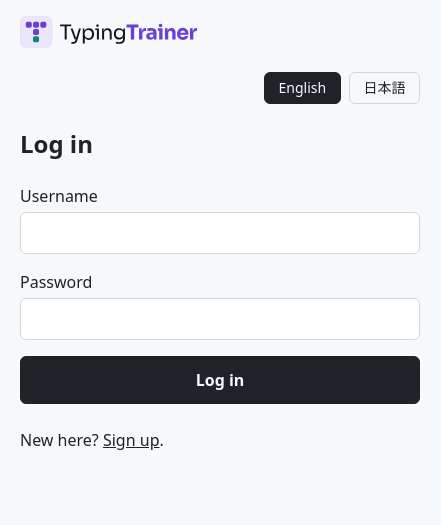
sign-in screen › says how long to wait when the API rate-limits the attempt
The width and height of the screenshot is (441, 525).
Type "ada" into the field labelled "Username" at (220, 233), box [20,212,420,254]
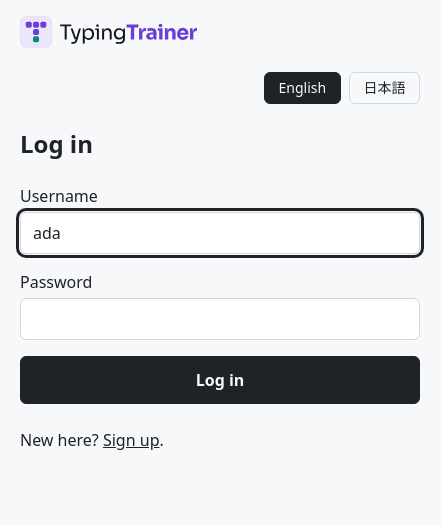
Type "correct horse battery staple" into the password field labelled "Password" at (220, 319), box [20,298,420,340]
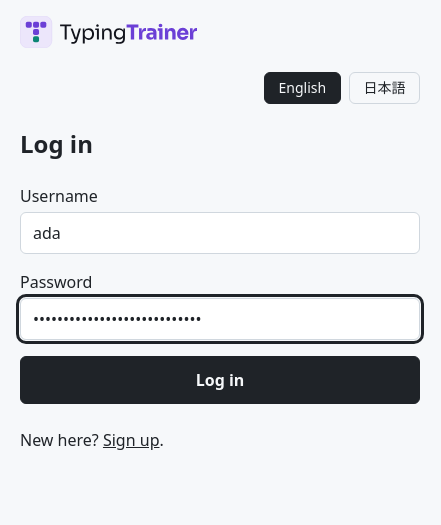
Click the button "Log in" at (220, 380), box [20,356,420,404]
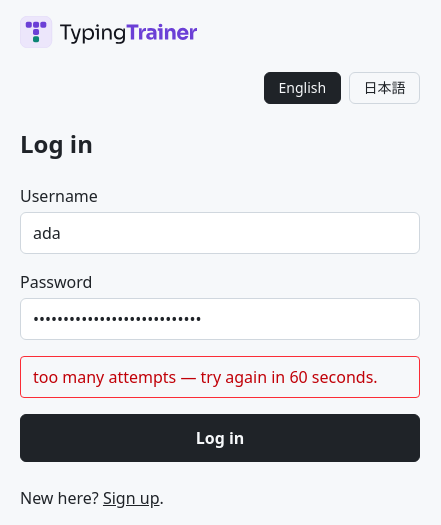
Check: the message shows "try again in 60 seconds", box [33,366,378,388]
